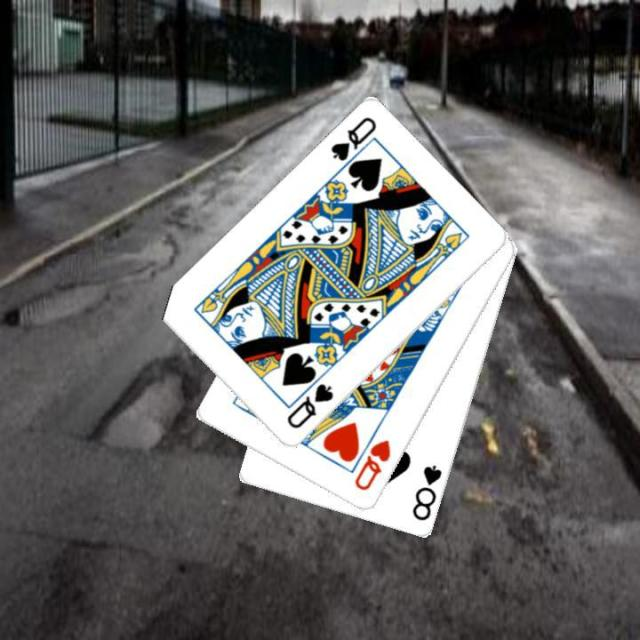8S: (408, 461, 444, 524)
QH: (350, 436, 393, 494)
QS: (326, 113, 379, 164), (283, 380, 335, 431)
